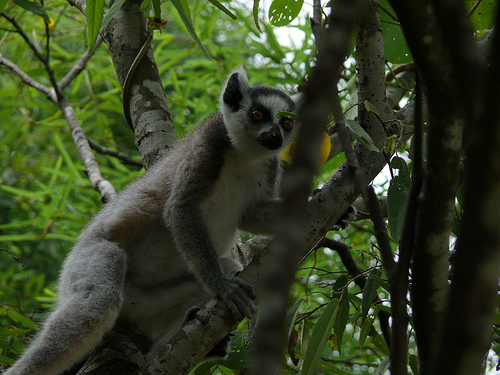cat: (0, 65, 298, 374)
